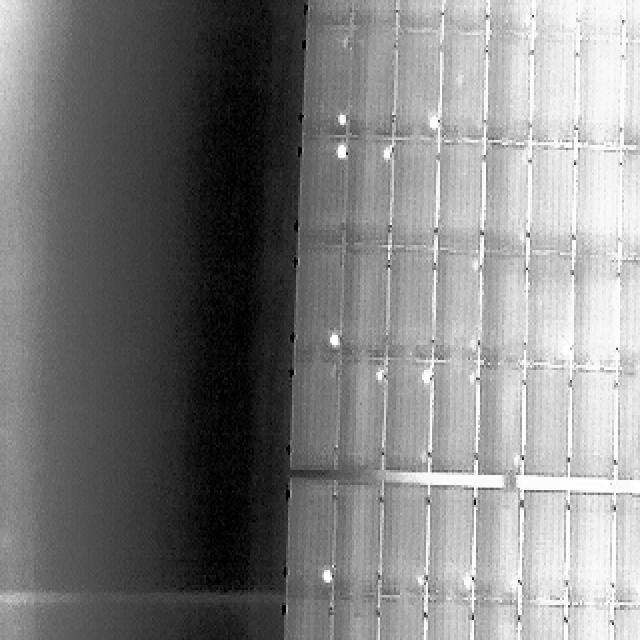Hotspots: (502, 571, 526, 599), (328, 332, 344, 354), (626, 575, 640, 600), (417, 363, 433, 383), (556, 340, 572, 360), (459, 576, 476, 593), (375, 142, 391, 159), (321, 568, 336, 586), (369, 362, 384, 380), (411, 573, 427, 589), (334, 142, 348, 160), (428, 118, 442, 135), (334, 118, 348, 134)
PV-modules: (333, 361, 384, 481), (295, 243, 346, 360), (288, 483, 338, 601), (344, 28, 396, 141), (426, 363, 476, 478), (424, 489, 474, 604), (338, 246, 388, 360), (568, 259, 617, 375), (383, 362, 432, 478), (472, 491, 521, 606), (521, 492, 570, 607), (475, 366, 524, 481), (477, 254, 527, 366), (563, 494, 612, 608), (434, 253, 484, 364), (332, 489, 382, 600), (570, 149, 620, 260), (380, 488, 430, 599), (437, 143, 486, 256), (523, 367, 572, 480), (526, 257, 574, 372), (292, 362, 340, 476), (566, 370, 615, 480), (529, 36, 578, 146), (482, 34, 530, 145), (394, 30, 442, 141), (387, 248, 435, 359), (527, 150, 576, 258), (441, 31, 488, 143), (304, 30, 351, 142), (342, 141, 391, 248), (577, 39, 625, 148), (390, 142, 438, 250), (300, 140, 348, 248), (481, 148, 528, 257), (610, 495, 640, 607), (614, 372, 640, 480), (616, 260, 640, 375), (618, 150, 640, 262), (376, 595, 426, 640), (328, 595, 378, 640), (620, 40, 640, 148), (282, 597, 330, 640), (468, 600, 518, 640), (578, 0, 626, 41), (420, 602, 470, 640), (353, 1, 405, 34), (533, 0, 578, 38), (484, 0, 532, 35), (560, 607, 610, 640), (516, 607, 566, 640), (443, 0, 492, 32), (396, 0, 446, 31), (306, 0, 354, 30), (608, 605, 640, 640), (620, 0, 640, 45)
